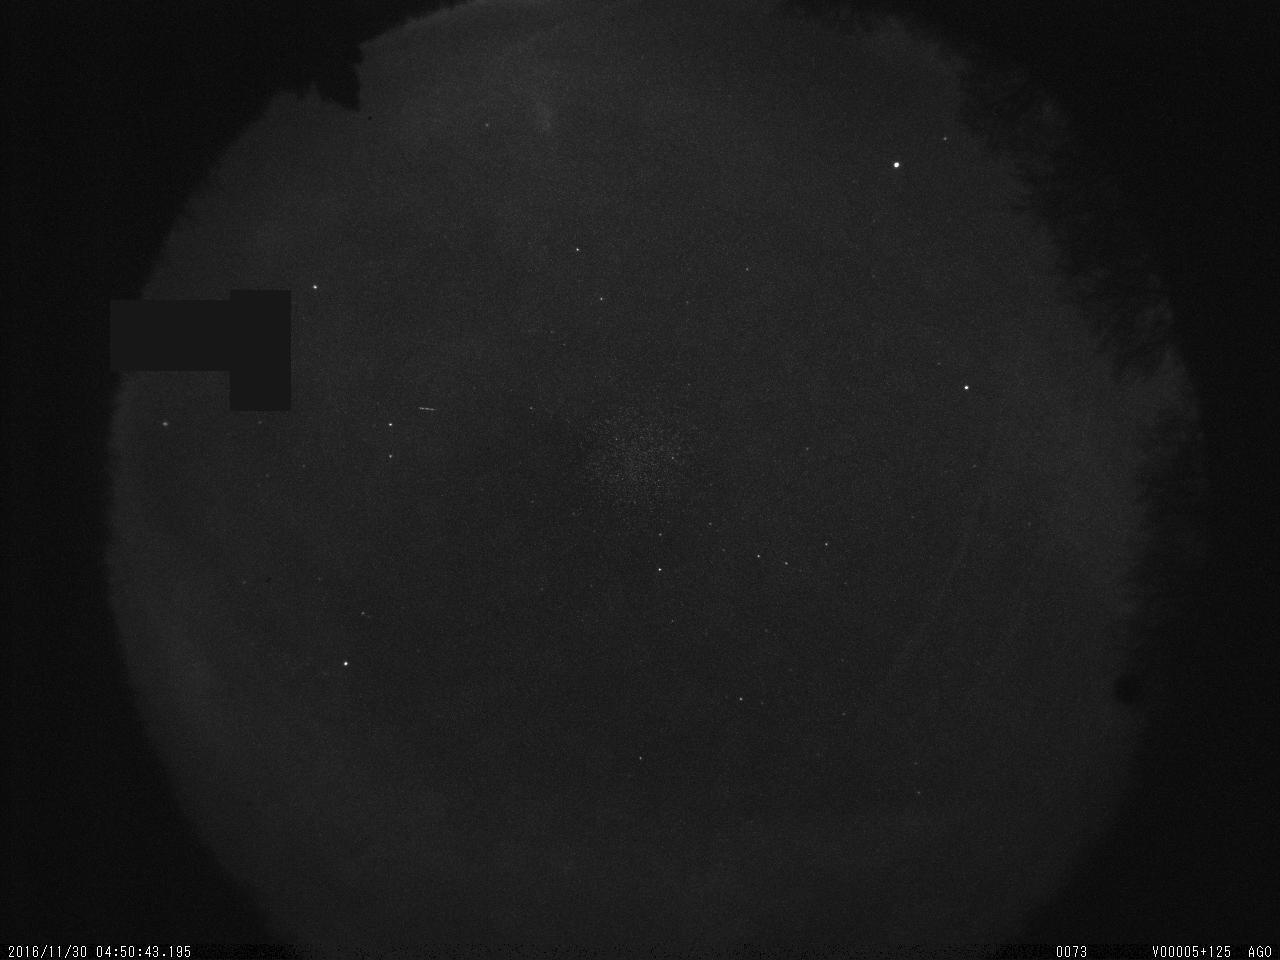meteor: (413, 401, 443, 417)
